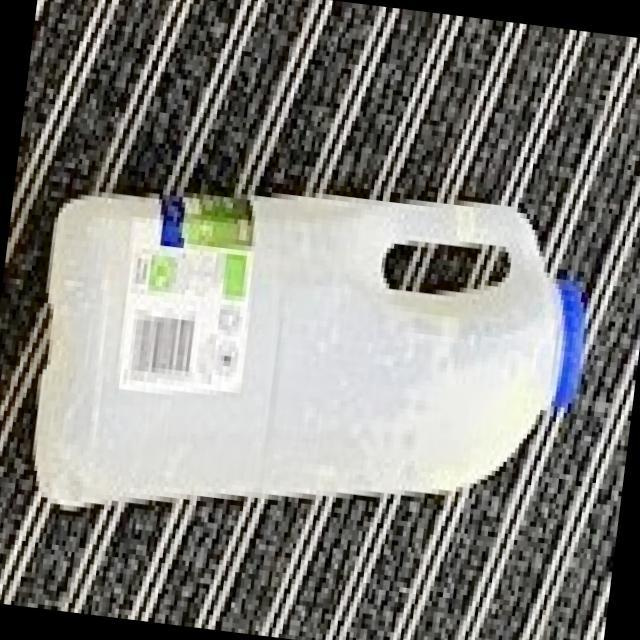HDPE Plastic: (31, 194, 585, 516)
